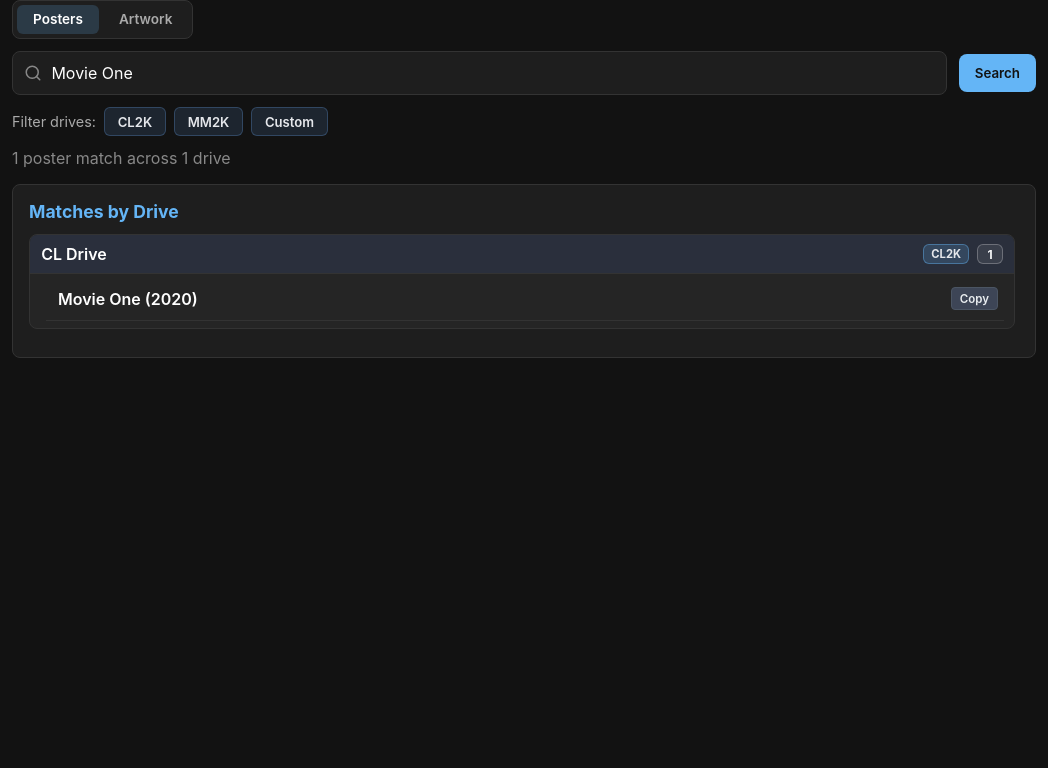
DriveSearchPanel hover preview › shows the popup after the hover delay, by the cursor, and follows the mouse without re-rendering
Hover over the text "Movie One (2020)" at (128, 298), box top-left (58, 288), bottom-right (198, 308)
Wait 300 ms
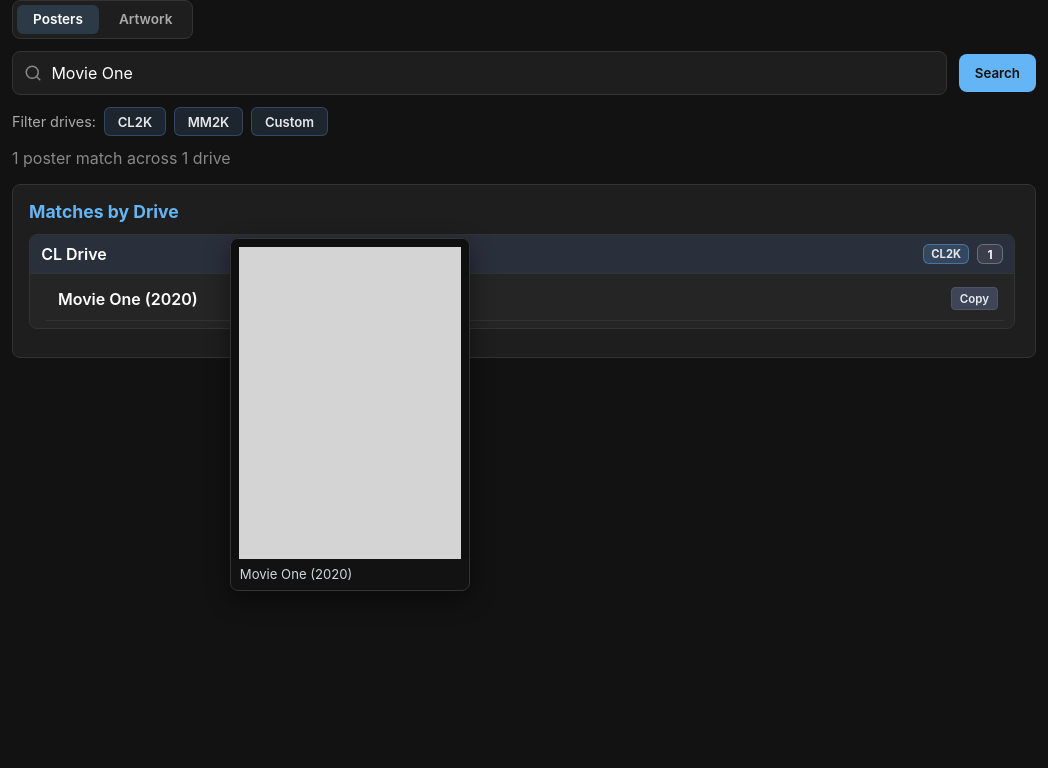
Move the pointer off the text "Movie One (2020)" below "CL Drive", box top-left (58, 288), bottom-right (198, 308)
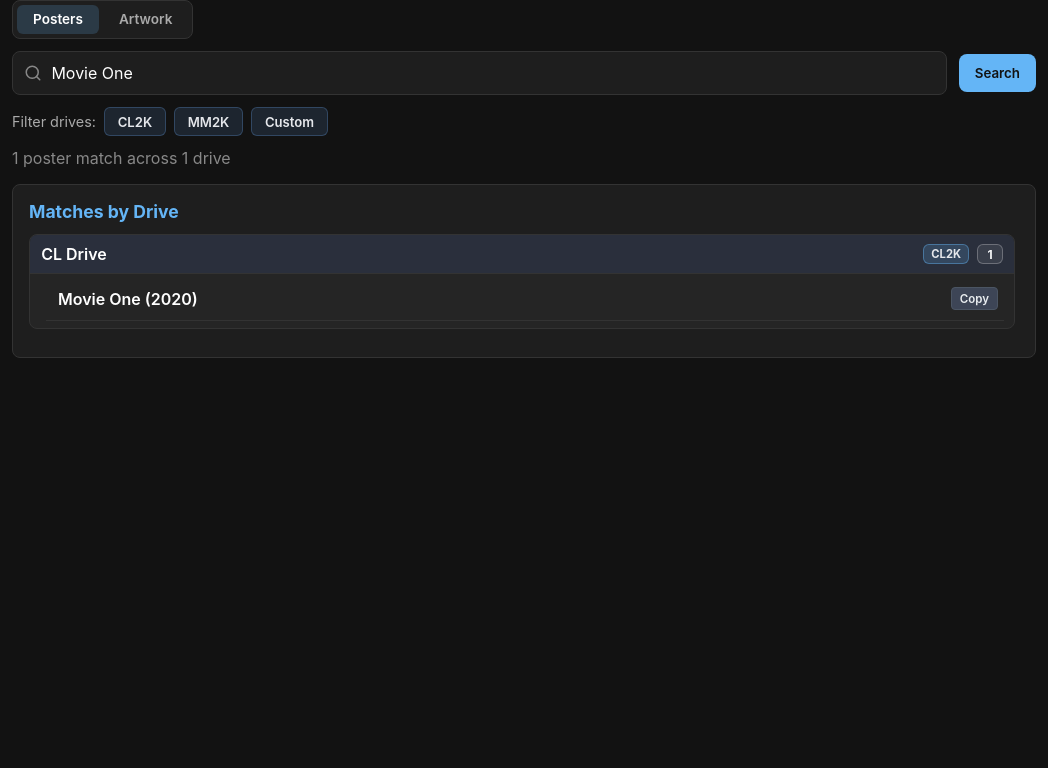
Check: the element with class "hover-preview-popup" is gone
